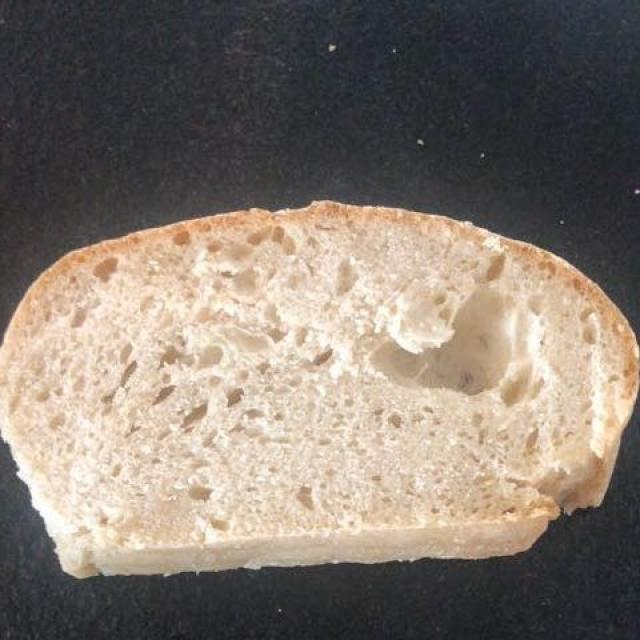bread: (13, 202, 634, 569)
